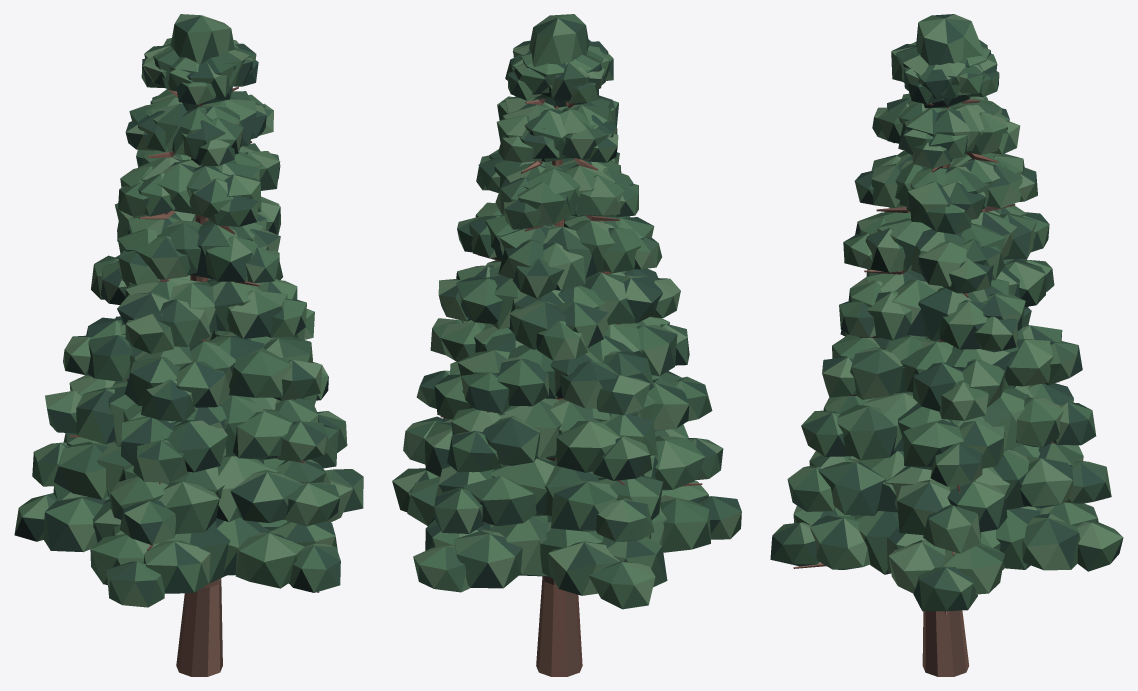
The model's file is cedar.glb.
3 views of the same model, side by side, from view 1: azimuth 30°, elevation 25°; view 2: azimuth 150°, elevation 25°; view 3: azimuth 270°, elevation 25° (orthographic).
Visible parts, largest first — view 1: Overlapping cedar sprays, Cedar trunk, exposed roots and bent fans; view 2: Overlapping cedar sprays, Cedar trunk, exposed roots and bent fans; view 3: Overlapping cedar sprays, Cedar trunk, exposed roots and bent fans.
Boxes of the visible parts, x1,y1,x2,y2 form: Overlapping cedar sprays: [14, 14, 363, 607]; Cedar trunk, exposed roots and bent fans: [69, 86, 319, 676]; Overlapping cedar sprays: [392, 14, 741, 609]; Cedar trunk, exposed roots and bent fans: [440, 98, 702, 676]; Overlapping cedar sprays: [770, 14, 1123, 611]; Cedar trunk, exposed roots and bent fans: [793, 99, 1065, 676].
Size of the model in its own units: 4.35 by 9.1 by 4.48.
